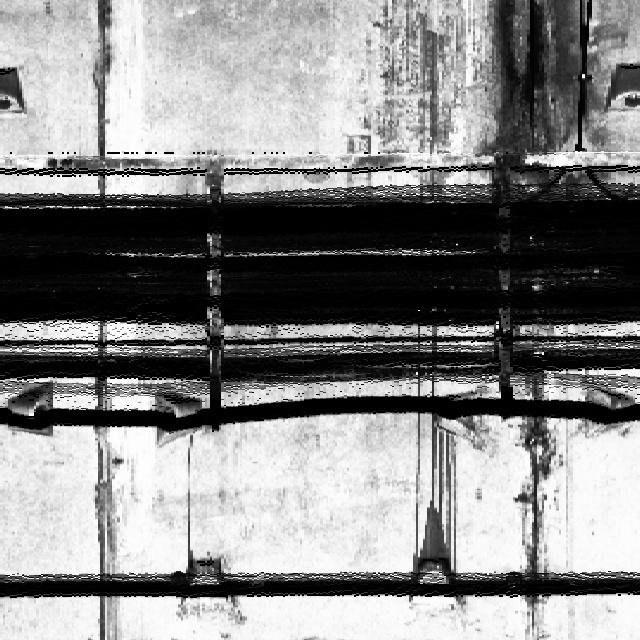leakage: (474, 0, 599, 187), (407, 367, 466, 568)
